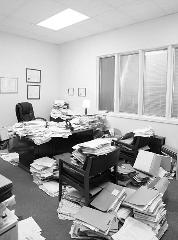paper: (74, 206, 118, 232), (112, 216, 158, 240), (134, 150, 162, 176), (126, 185, 160, 205), (18, 216, 42, 240), (34, 156, 56, 168), (134, 126, 156, 138), (0, 152, 20, 162)
